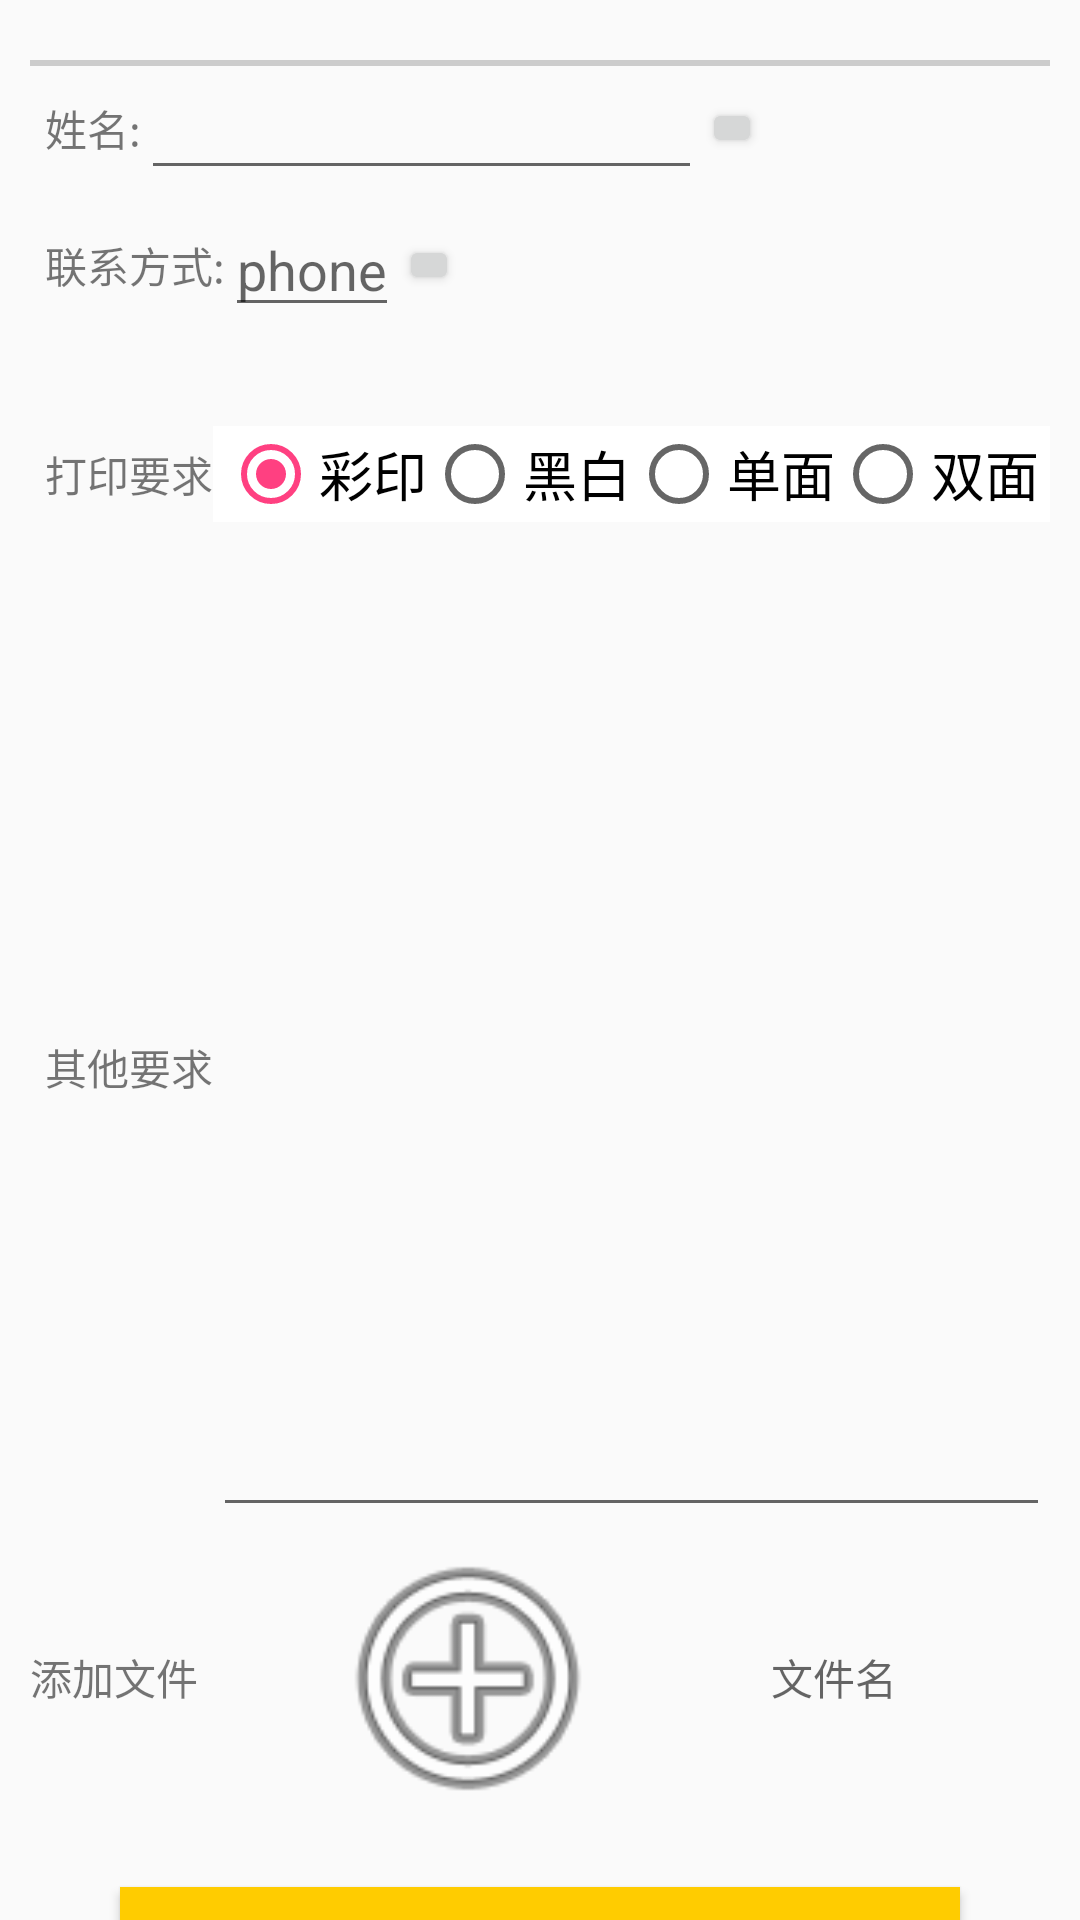

Icons on this 1080 x 1920 Android screen, each with its box as rect(x1, y1, x2, y2):
add: rect(356, 1567, 580, 1790)
